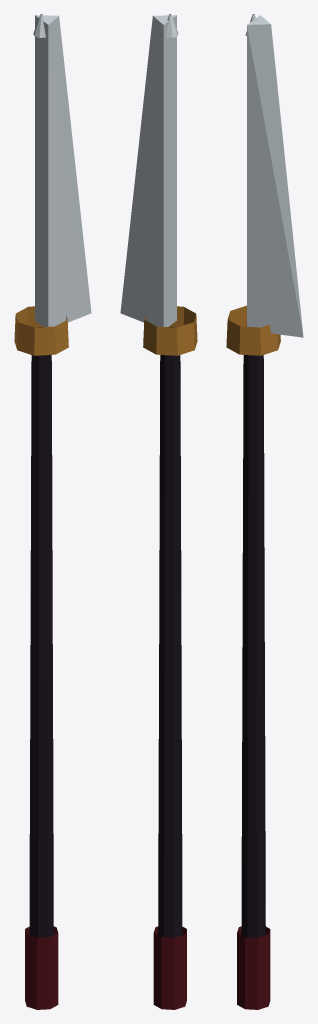
File: KGB_WPN_Naginata_GAME_v01.obj
3 renders of one model, left to right at view 1: azimuth 30°, elevation 25°; view 2: azimuth 150°, elevation 25°; view 3: azimuth 330°, elevation 25°, orthographic.
Visible parts, largest first — view 1: KGB_WPN_Naginata_GAME_v01; view 2: KGB_WPN_Naginata_GAME_v01; view 3: KGB_WPN_Naginata_GAME_v01.
Part boxes in pixels (x1,y1,x2,y2): KGB_WPN_Naginata_GAME_v01: (14, 14, 91, 1009); KGB_WPN_Naginata_GAME_v01: (120, 14, 197, 1009); KGB_WPN_Naginata_GAME_v01: (226, 14, 303, 1009).
Bounding box in the file's own units: 0.7 × 8.9 × 0.46.
